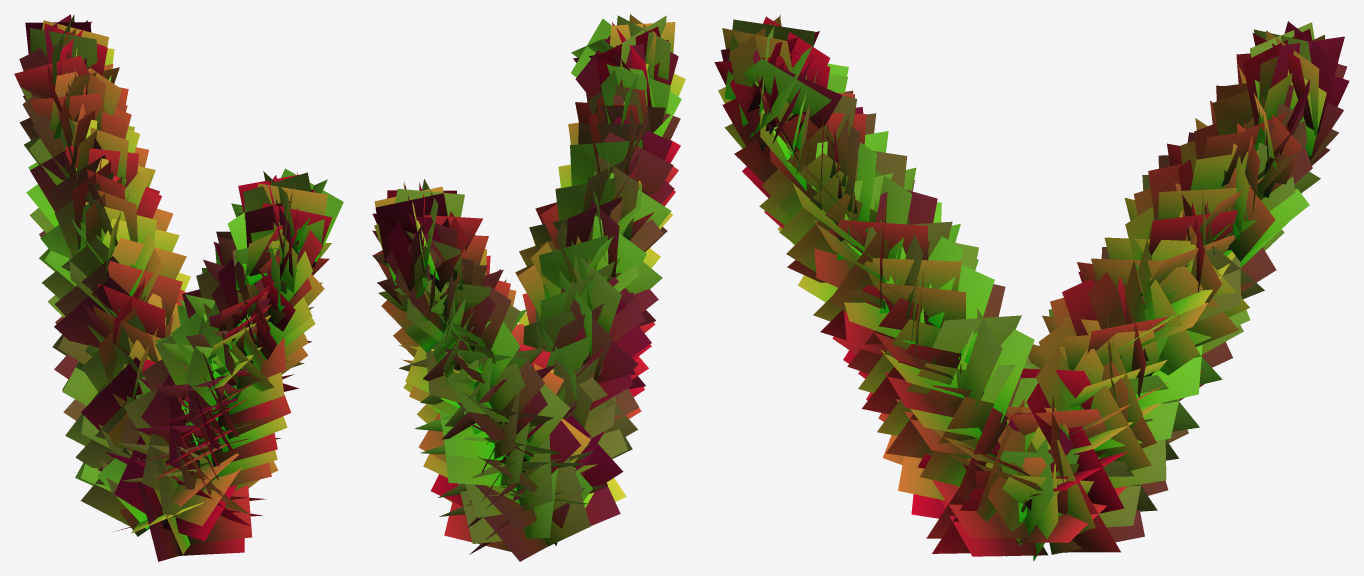
Rendered from URP_P4_Tree_12_LOD_3.fbx.
3 renders of one model, left to right at view 1: azimuth 30°, elevation 25°; view 2: azimuth 150°, elevation 25°; view 3: azimuth 270°, elevation 25°, orthographic. The views are drawn at different scales.
Visible parts, largest first — view 1: Tree_12_LOD_3; view 2: Tree_12_LOD_3; view 3: Tree_12_LOD_3.
Boxes of the visible parts, x1,y1,x2,y2 form: Tree_12_LOD_3: (14,14,343,561); Tree_12_LOD_3: (372,14,685,561); Tree_12_LOD_3: (714,14,1349,561).
Bounding box in the file's own units: 211 × 603 × 649.
